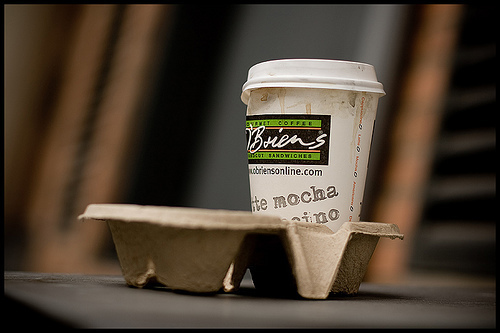litter: (77, 204, 405, 295), (240, 57, 386, 227)
